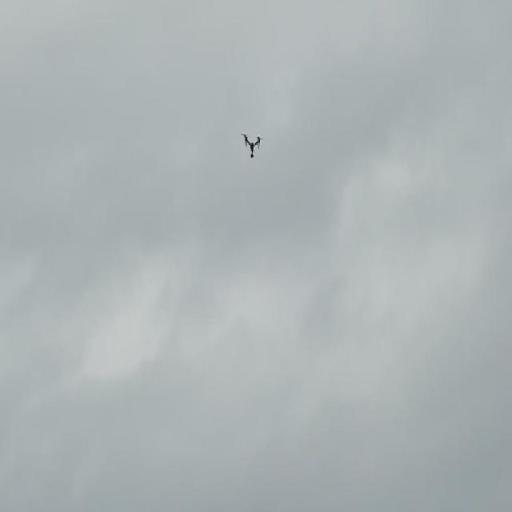uav: (237, 128, 269, 162)
